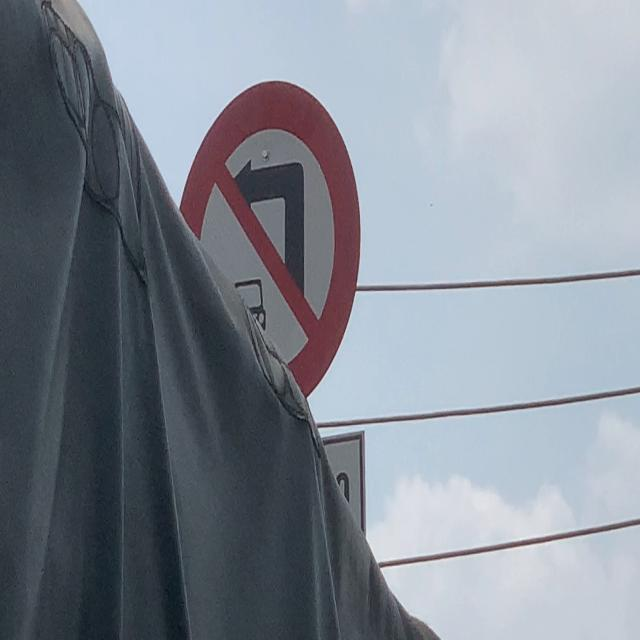Cam re trai: (166, 79, 362, 406)
